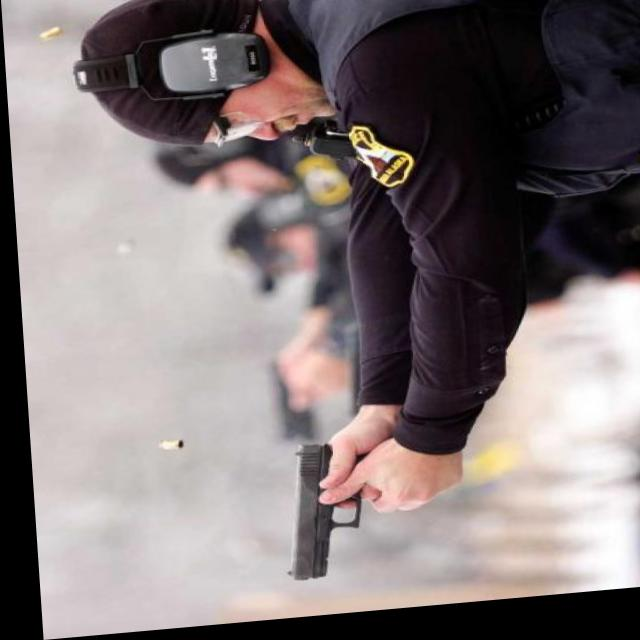handgun: (256, 434, 395, 593)
